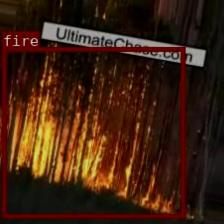fire: (2, 46, 184, 217)
